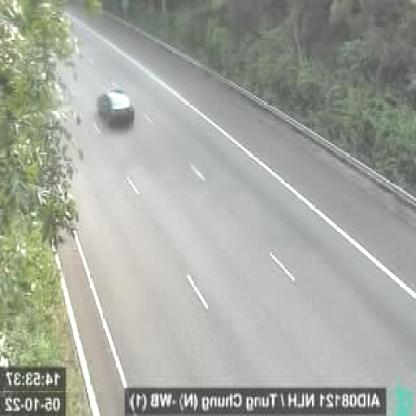Car: (99, 89, 134, 128)
